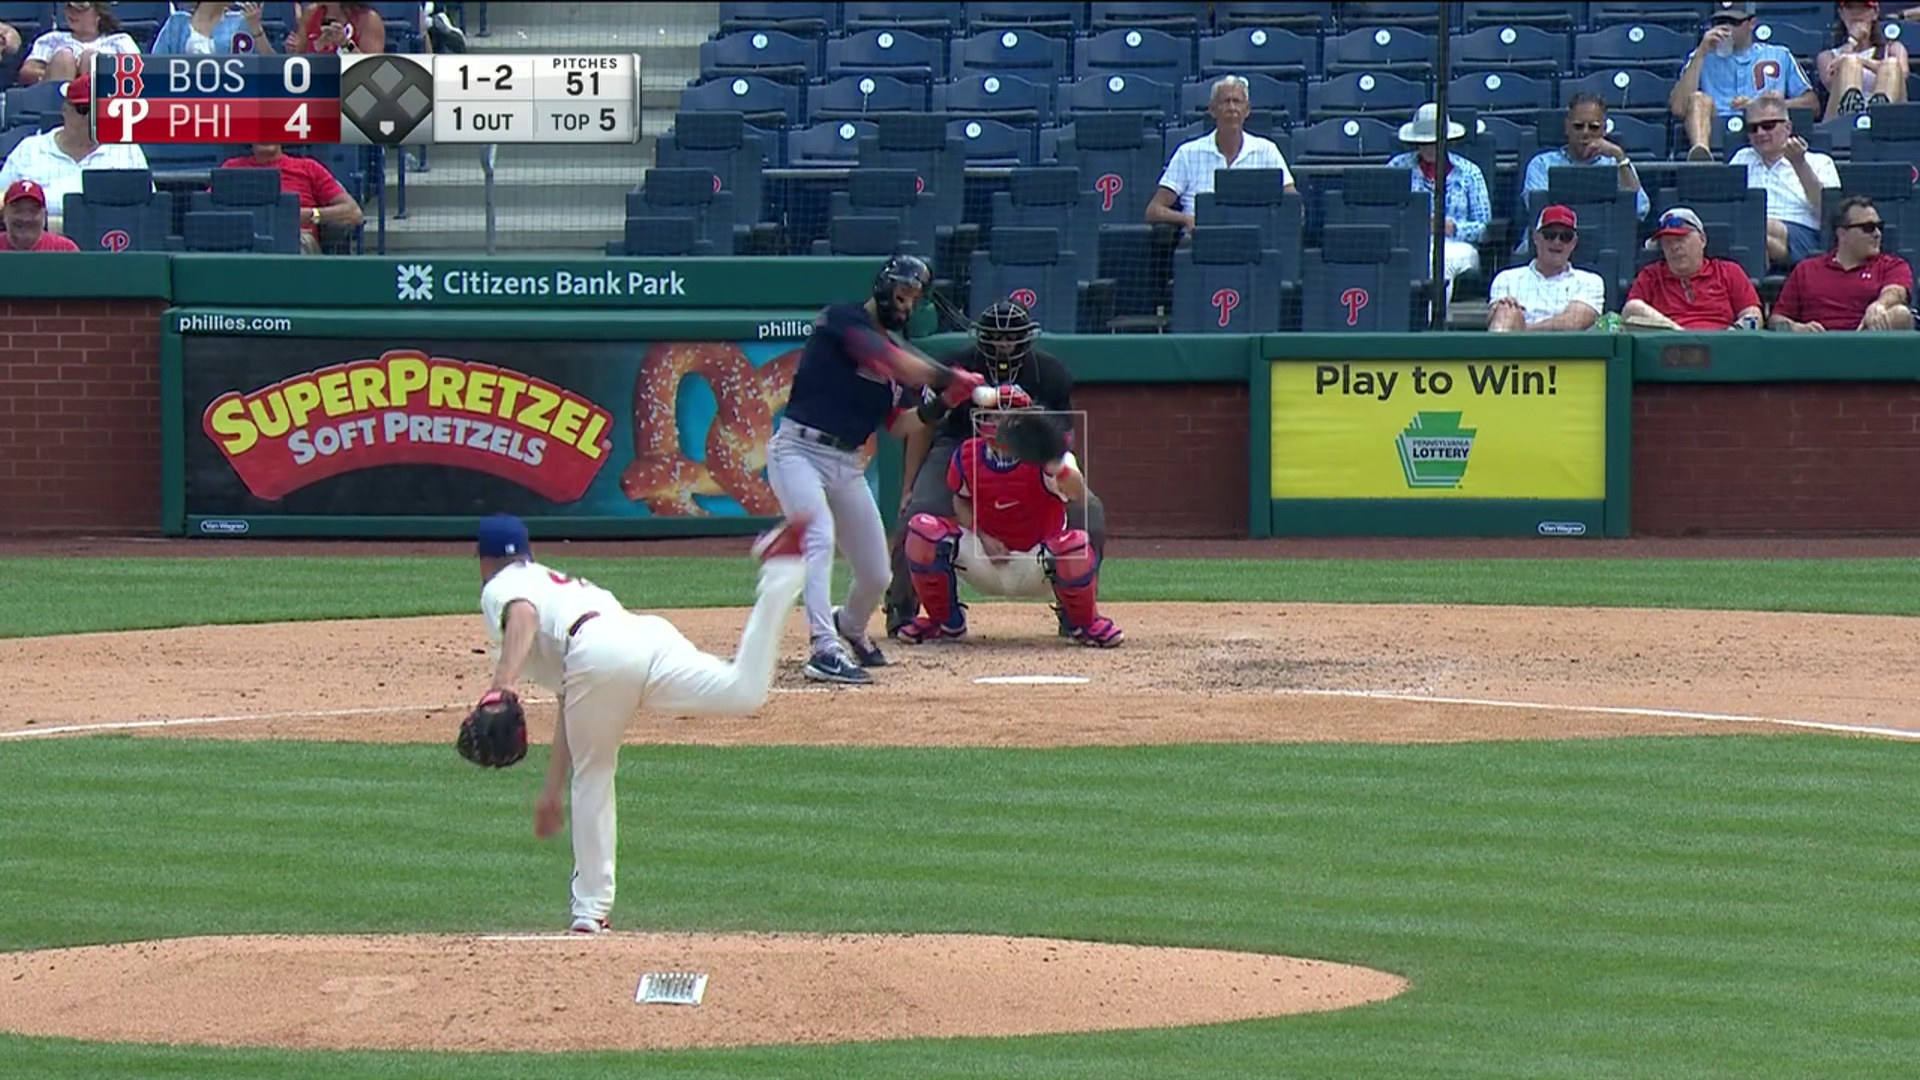baseball: (972, 384, 996, 405)
